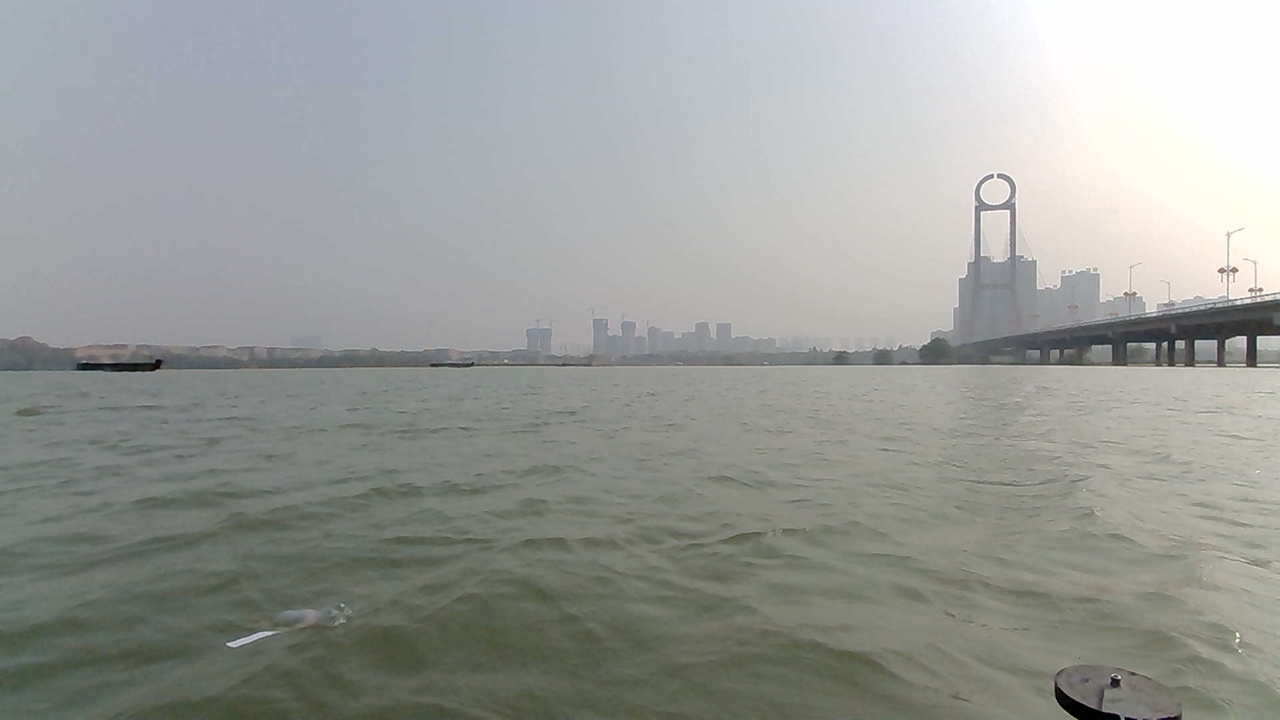bottle: (247, 593, 389, 657)
